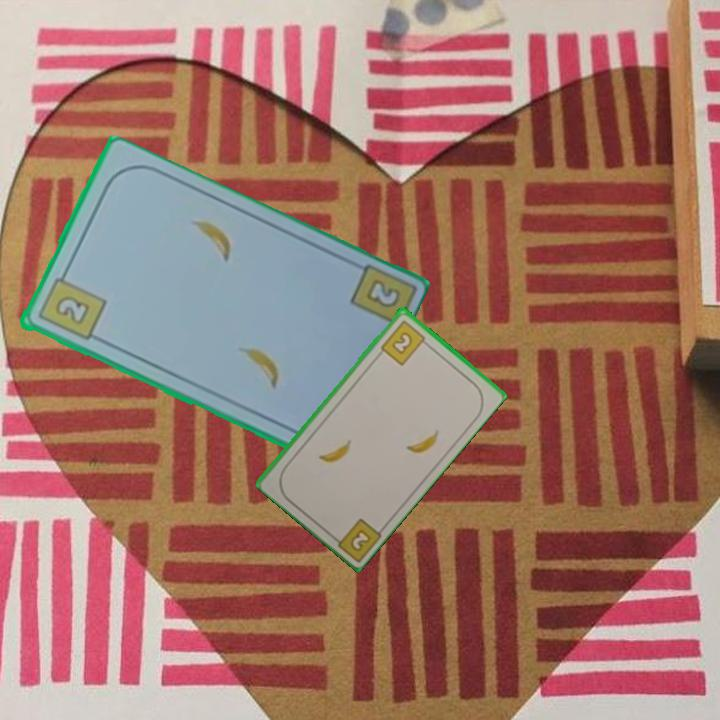2b: (33, 267, 108, 343), (377, 316, 432, 368), (327, 514, 384, 563), (361, 275, 403, 312)
